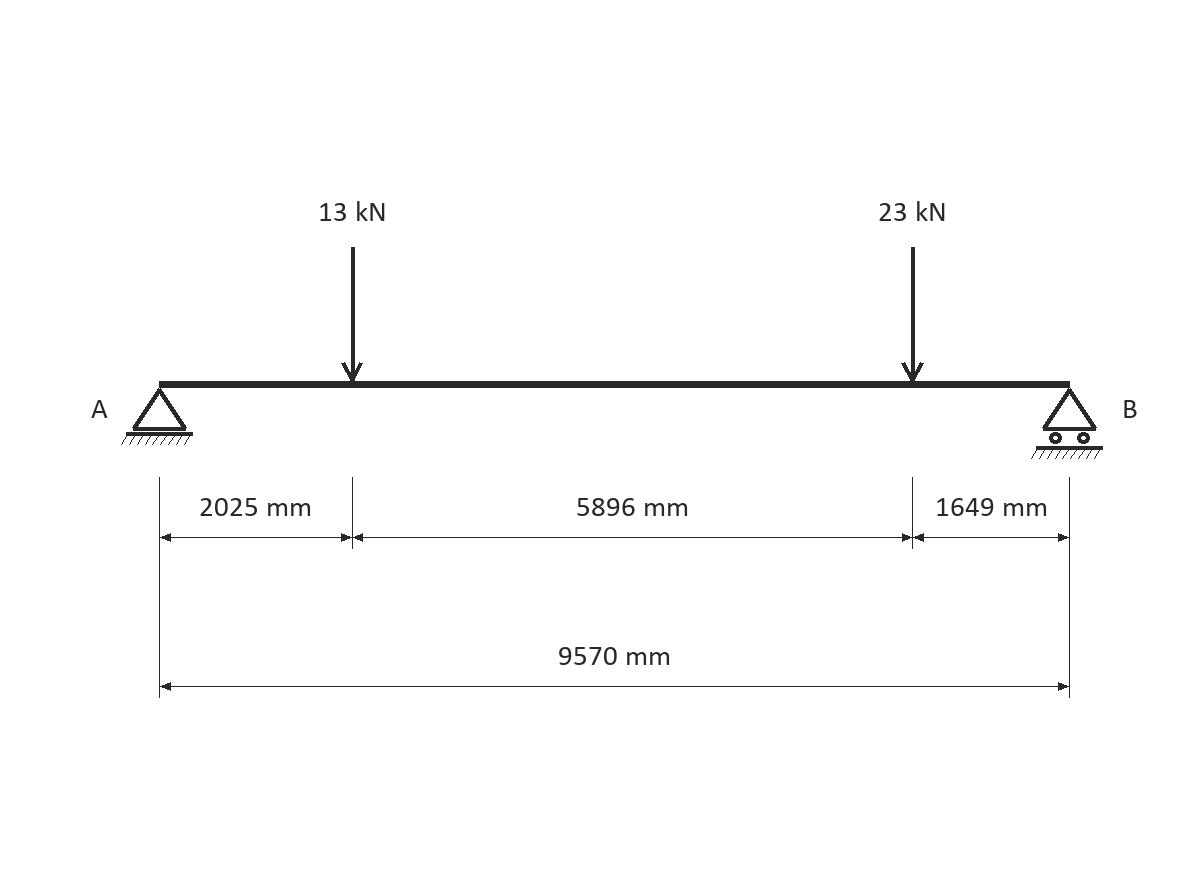pin_support: (121, 388, 193, 445)
point_load: (901, 247, 924, 382), (341, 247, 363, 382)
roller_support: (1031, 388, 1103, 459)
